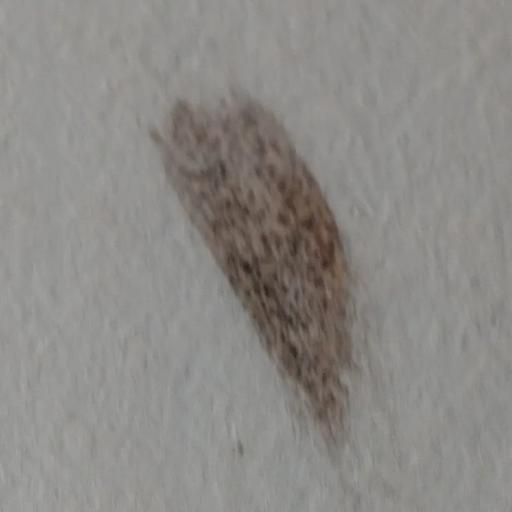stain: (135, 80, 389, 469)
